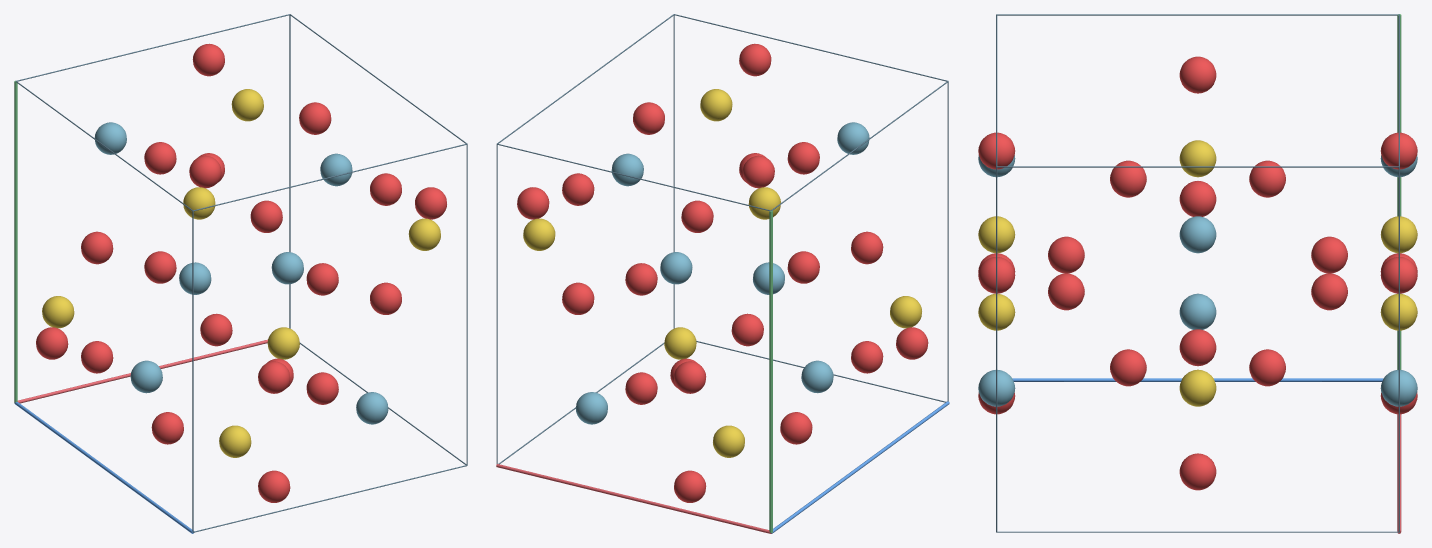
Rendered from chat-anhydrite.glb.
3 renders of one model, left to right at view 1: azimuth 30°, elevation 25°; view 2: azimuth 150°, elevation 25°; view 3: azimuth 270°, elevation 25°, orthographic. The views are drawn at different scales.
Parts seen in each view (by area): view 1: O1 · O · 1 (×11), Ô mạng và các trục a, b, c, O2 · O · 1 (×7), S · S · 1 (×6), Ca · Ca · 1 (×6); view 2: O1 · O · 1 (×11), Ô mạng và các trục a, b, c, O2 · O · 1 (×7), S · S · 1 (×6), Ca · Ca · 1 (×6); view 3: O2 · O · 1 (×8), O1 · O · 1 (×8), Ô mạng và các trục a, b, c, S · S · 1 (×6), Ca · Ca · 1 (×4).
Boxes of the visible parts, <box> form: O1 · O · 1 (×11): <box>81,43,401,502</box>; Ô mạng và các trục a, b, c: <box>14,14,467,533</box>; O2 · O · 1 (×7): <box>36,102,446,444</box>; S · S · 1 (×6): <box>42,89,440,457</box>; Ca · Ca · 1 (×6): <box>94,122,388,424</box>; O1 · O · 1 (×11): <box>562,43,883,502</box>; Ô mạng và các trục a, b, c: <box>496,14,949,533</box>; O2 · O · 1 (×7): <box>517,102,928,444</box>; S · S · 1 (×6): <box>523,89,921,457</box>; Ca · Ca · 1 (×6): <box>576,122,869,424</box>; O2 · O · 1 (×8): <box>1048,160,1347,386</box>; O1 · O · 1 (×8): <box>978,56,1417,490</box>; Ô mạng và các trục a, b, c: <box>996,14,1401,533</box>; S · S · 1 (×6): <box>978,140,1417,406</box>; Ca · Ca · 1 (×4): <box>978,216,1417,406</box>.
Size of the model in its own units: 6.62 by 7.03 by 7.61.
